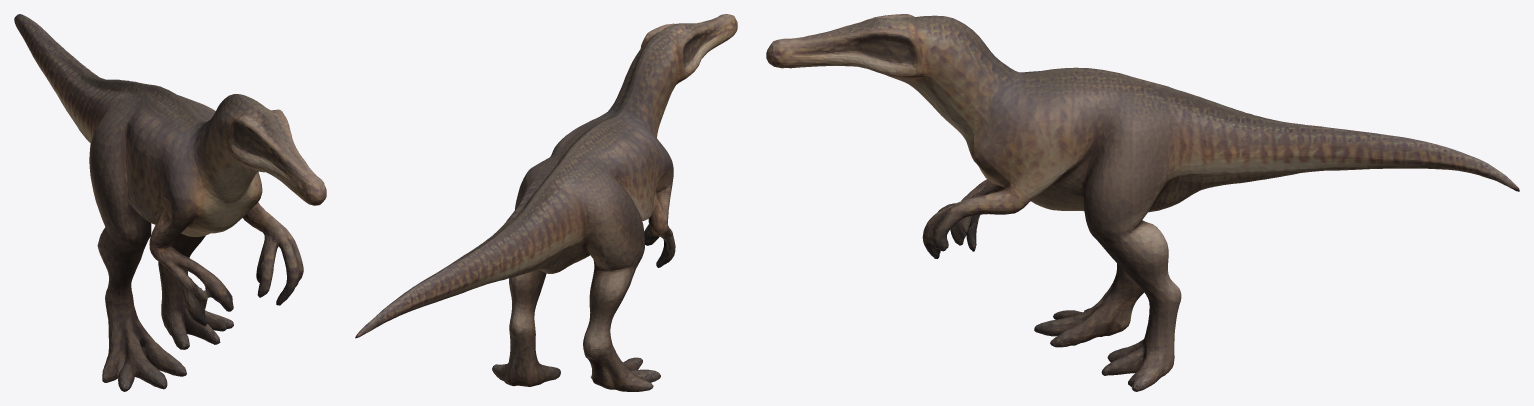
The picture shows the model from 3 angles, left to right: view 1: azimuth 30°, elevation 25°; view 2: azimuth 150°, elevation 25°; view 3: azimuth 270°, elevation 25°; orthographic projection. The views are drawn at different scales.
Visible parts, largest first — view 1: world; view 2: world; view 3: world.
Boxes of the visible parts, x1,y1,x2,y2 form: world: [14, 14, 326, 391]; world: [355, 14, 737, 391]; world: [766, 14, 1519, 391].
Size of the model in its own units: 2.1 by 4.18 by 8.5.
Materials: 2 (1 with a texture image).
